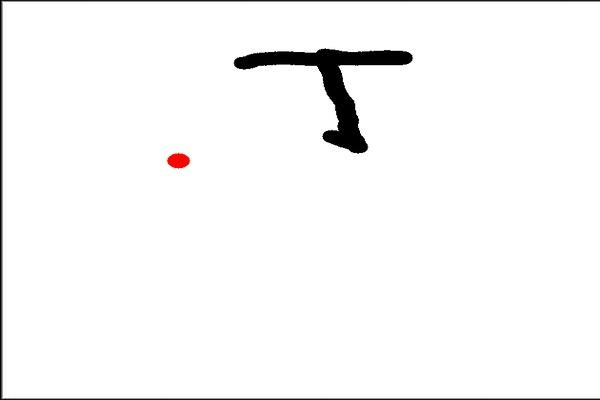T: (226, 40, 426, 156)
